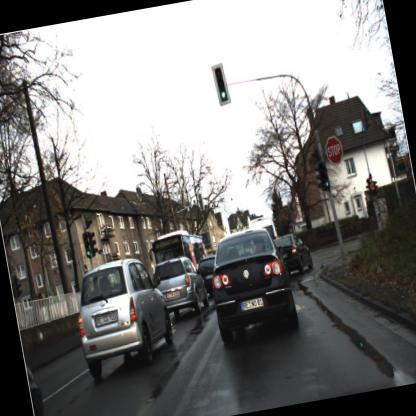other: (321, 132, 347, 166)
